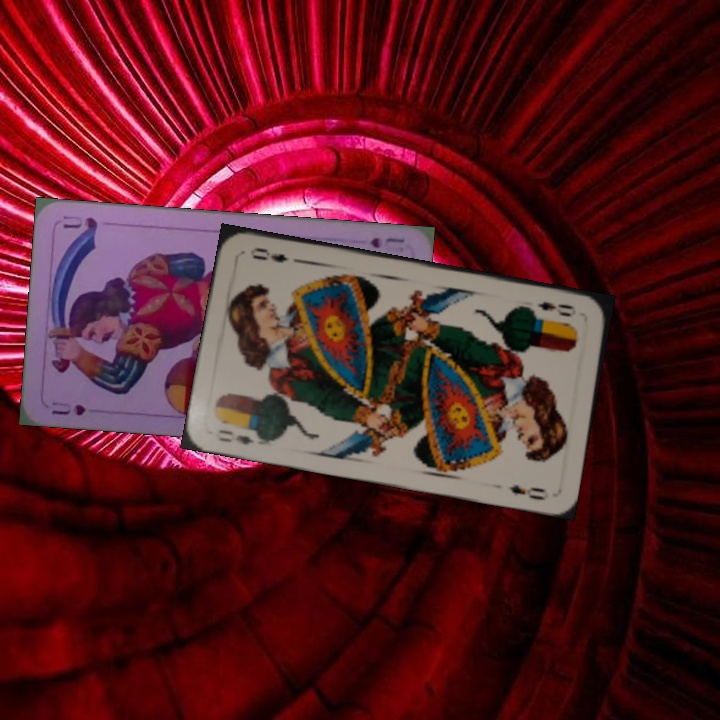EO: (533, 297, 579, 320), (214, 425, 257, 448)
SU: (365, 233, 407, 253), (47, 400, 88, 418)
